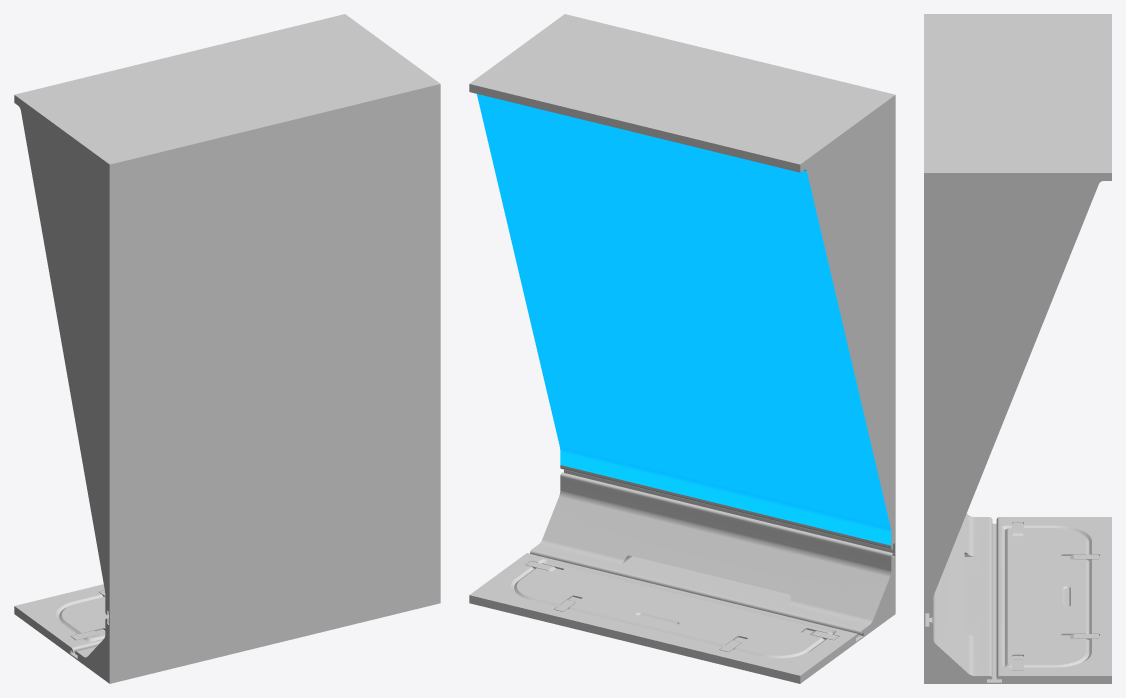
The model's file is SM_MOD_Laser_Wall_04_01.fbx.
3 renders of one model, left to right at view 1: azimuth 30°, elevation 25°; view 2: azimuth 150°, elevation 25°; view 3: azimuth 270°, elevation 25°, orthographic.
Visible parts, largest first — view 1: SM_MOD_Laser_Wall_04_01_LOD0; view 2: SM_MOD_Laser_Wall_04_01_LOD0; view 3: SM_MOD_Laser_Wall_04_01_LOD0.
Boxes of the visible parts, x1,y1,x2,y2 form: SM_MOD_Laser_Wall_04_01_LOD0: (14, 14, 440, 683); SM_MOD_Laser_Wall_04_01_LOD0: (469, 14, 895, 683); SM_MOD_Laser_Wall_04_01_LOD0: (924, 14, 1111, 683).
Size of what is drawn, in the model's own units: 512 by 768 by 256.
